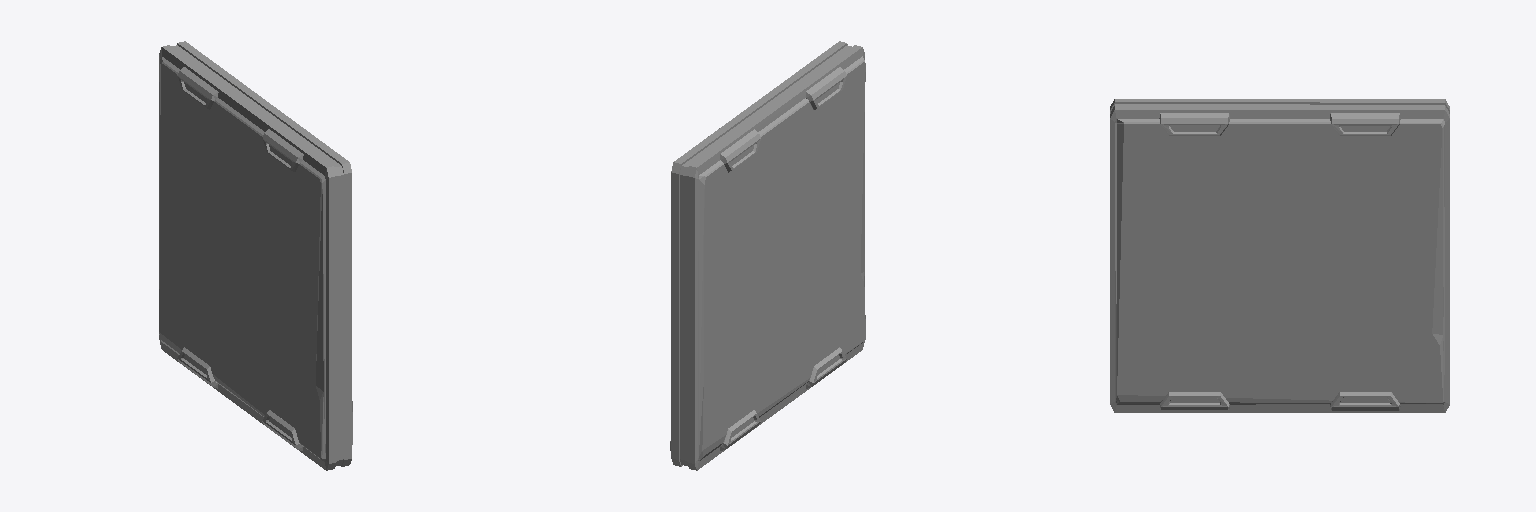
Rendered from wall_l.obj.
3 renders of one model, left to right at view 1: azimuth 30°, elevation 25°; view 2: azimuth 150°, elevation 25°; view 3: azimuth 270°, elevation 25°, orthographic.
Parts seen in each view (by area): view 1: default-default.000_default-default.000; view 2: default-default.000_default-default.000; view 3: default-default.000_default-default.000.
Part boxes in pixels (x1,y1,x2,y2): default-default.000_default-default.000: (159,41,352,470); default-default.000_default-default.000: (670,41,865,470); default-default.000_default-default.000: (1110,99,1449,412).
Size of the model in its own units: 0.3105 by 2.3 by 2.34.